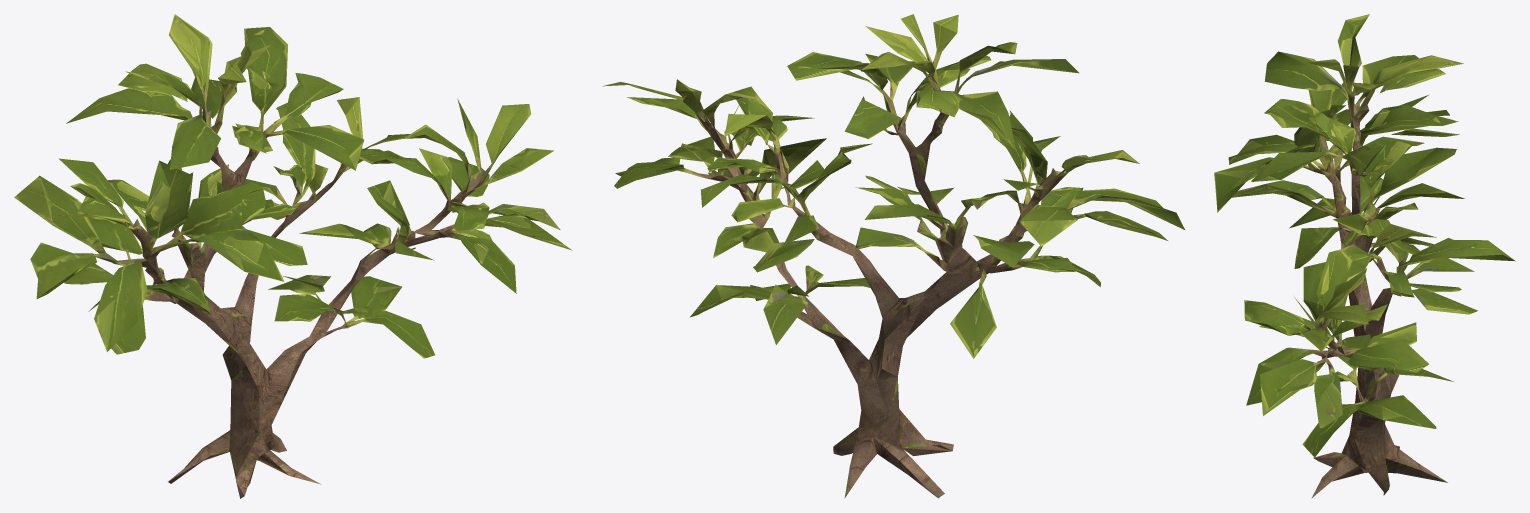
The model's file is co_broadleaf_shrub.glb.
3 views of the same model, side by side, from view 1: azimuth 30°, elevation 25°; view 2: azimuth 150°, elevation 25°; view 3: azimuth 270°, elevation 25° (orthographic). The views are drawn at different scales.
Visible parts, largest first — view 1: mesh; view 2: mesh; view 3: mesh.
Boxes of the visible parts, <box> form: mesh: <box>14,14,572,498</box>; mesh: <box>602,14,1184,498</box>; mesh: <box>1214,14,1515,498</box>.
Bounding box in the file's own units: 1.77 × 1.41 × 0.9239.
1 material, 1 textured.
